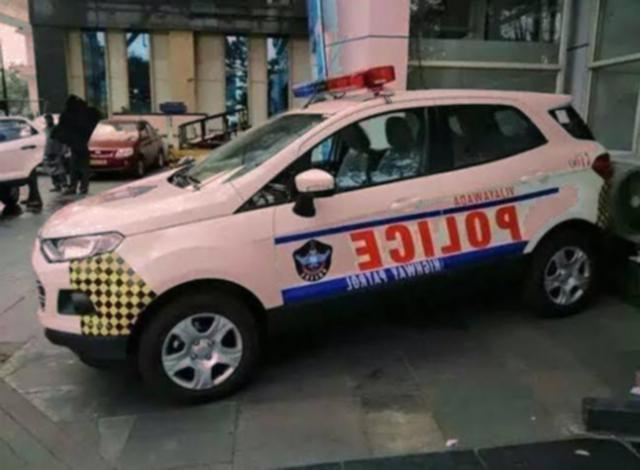police_car: (30, 68, 613, 396)
